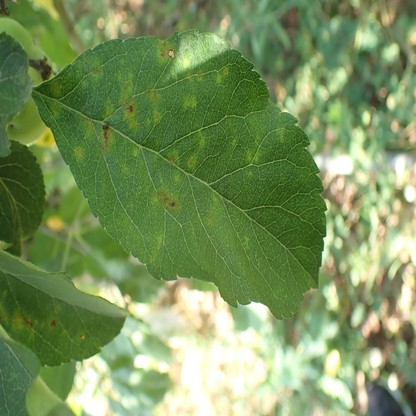scab: (117, 61, 136, 125), (12, 308, 38, 341), (77, 56, 102, 89), (151, 189, 179, 213), (96, 124, 115, 155), (157, 38, 175, 66), (205, 194, 219, 230), (149, 236, 162, 264), (82, 117, 96, 139), (143, 89, 161, 102), (0, 303, 9, 328), (103, 99, 114, 118), (276, 124, 286, 144), (182, 95, 196, 109), (167, 148, 179, 164), (74, 146, 85, 163), (48, 315, 60, 330), (51, 102, 60, 122), (187, 153, 199, 168), (152, 109, 164, 123), (51, 79, 61, 95), (198, 130, 206, 150), (75, 327, 85, 341), (55, 301, 65, 313), (173, 170, 181, 184), (246, 150, 253, 166), (243, 235, 250, 250), (186, 72, 194, 82), (214, 74, 222, 84), (247, 170, 254, 181), (120, 165, 128, 174), (183, 57, 190, 67), (132, 147, 138, 158), (255, 153, 261, 162), (223, 66, 229, 74), (3, 290, 8, 299), (145, 117, 150, 126), (231, 138, 236, 147), (197, 73, 202, 80)
